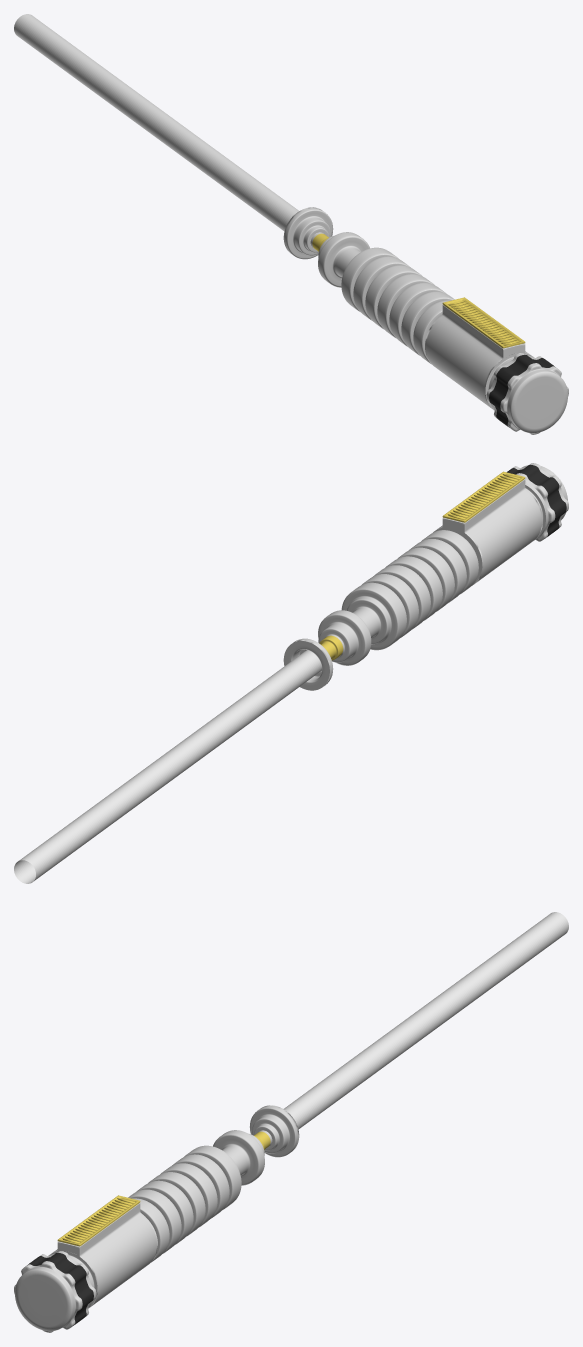
Rendered from laserschwert.fbx.
The picture shows the model from 3 angles, top to bottom: view 1: azimuth 30°, elevation 25°; view 2: azimuth 150°, elevation 25°; view 3: azimuth 330°, elevation 25°; orthographic projection.
Visible parts, largest first — view 1: Cylinder; view 2: Cylinder; view 3: Cylinder.
Part boxes in pixels (bbox=[...]): Cylinder: bbox=[14, 14, 568, 434]; Cylinder: bbox=[14, 463, 568, 883]; Cylinder: bbox=[14, 912, 568, 1332].
Bounding box in the file's own units: 146 × 157 × 1968.
